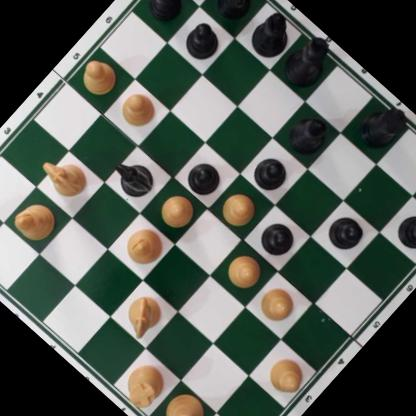black-bishop: (245, 5, 304, 65), (283, 107, 336, 161)
black-king: (278, 29, 341, 94)
black-knight: (107, 151, 160, 203), (206, 0, 268, 26)
black-pawn: (178, 16, 227, 65), (247, 149, 295, 197), (255, 215, 302, 262), (323, 208, 369, 255), (182, 155, 228, 201), (139, 0, 193, 28), (391, 206, 416, 257)
black-rook: (353, 94, 414, 156)
white-bishop: (8, 192, 64, 248), (120, 220, 171, 271)
white-king: (151, 384, 217, 416)
white-knight: (35, 148, 95, 206), (116, 287, 171, 342)
white-pawn: (261, 350, 311, 401), (215, 185, 263, 234), (221, 247, 269, 296), (75, 53, 124, 101), (254, 280, 301, 327), (154, 187, 201, 234), (115, 86, 161, 133)
white-rook: (116, 355, 174, 413)
